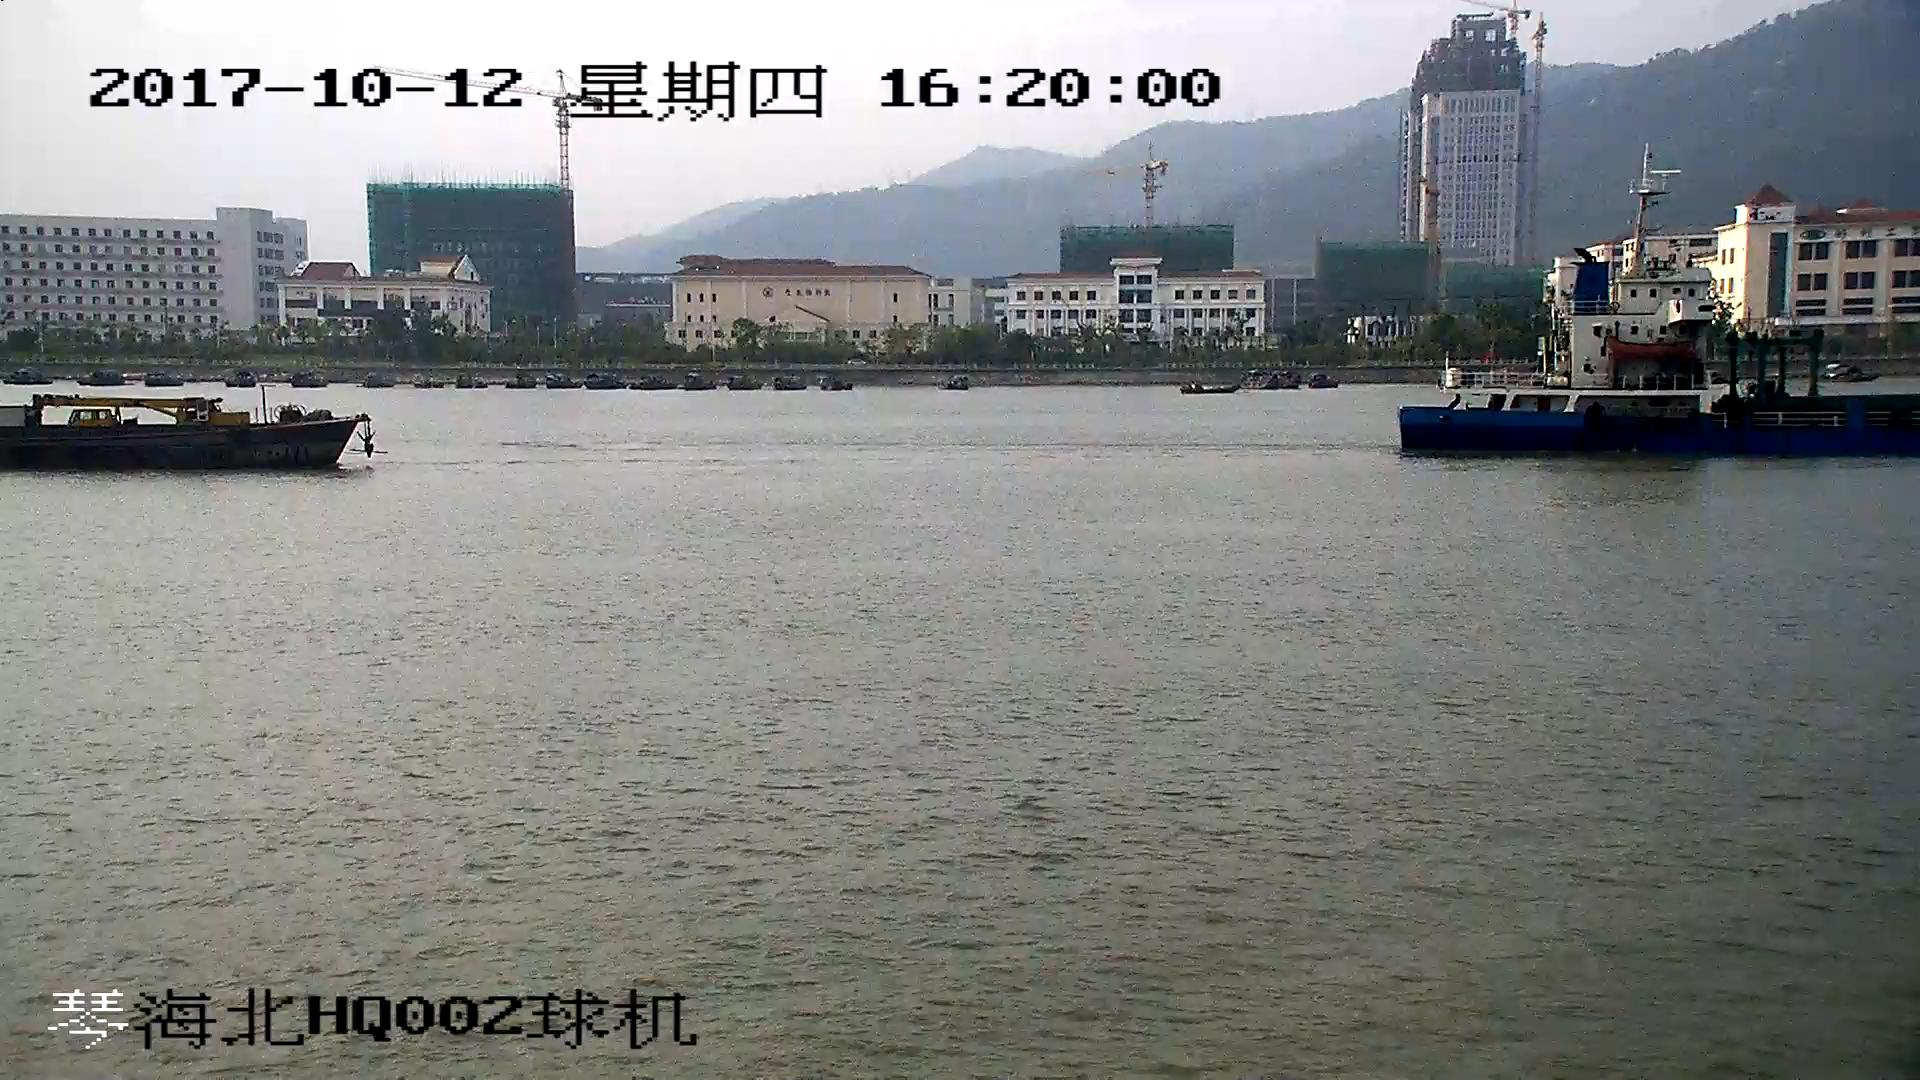bulk cargo carrier: (1413, 144, 1920, 451)
fishing boat: (1, 380, 386, 470)
